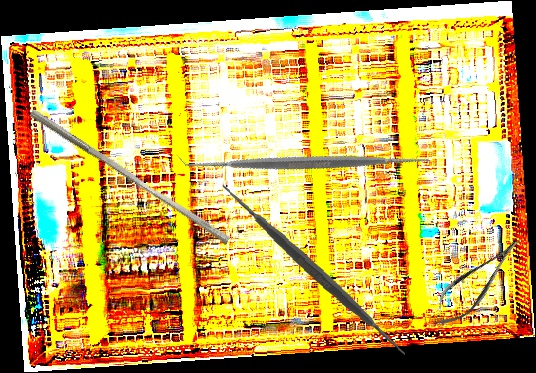Micro Scissor: (420, 226, 534, 338)
Pusher: (24, 108, 235, 246)
Spatula Surgical: (175, 30, 439, 294), (214, 170, 414, 369)
